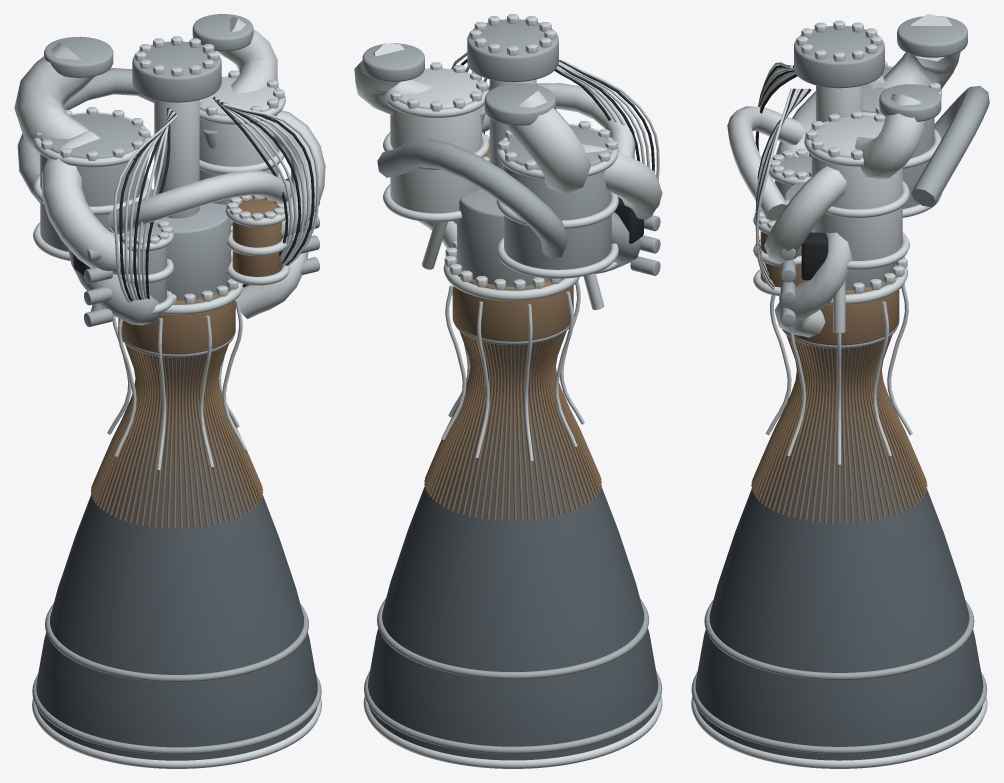
Rendered from Raptor2_Engine.fbx.
3 views of the same model, side by side, from view 1: azimuth 30°, elevation 25°; view 2: azimuth 150°, elevation 25°; view 3: azimuth 270°, elevation 25° (orthographic). The views are drawn at different scales.
Visible parts, largest first — view 1: Geometry_NozzleAlloy, Geometry_PipeSteel, Geometry_BrushedSteel, Geometry_HeatTint, Geometry_Gaskets; view 2: Geometry_NozzleAlloy, Geometry_PipeSteel, Geometry_BrushedSteel, Geometry_HeatTint, Geometry_Gaskets; view 3: Geometry_NozzleAlloy, Geometry_PipeSteel, Geometry_BrushedSteel, Geometry_HeatTint, Geometry_Gaskets.
Boxes of the visible parts, x1=… form: Geometry_NozzleAlloy: x1=36, y1=353, x2=317, y2=760; Geometry_PipeSteel: x1=14, y1=16, x2=325, y2=768; Geometry_BrushedSteel: x1=17, y1=14, x2=321, y2=754; Geometry_HeatTint: x1=91, y1=198, x2=282, y2=528; Geometry_Gaskets: x1=73, y1=96, x2=314, y2=301; Geometry_NozzleAlloy: x1=368, y1=341, x2=658, y2=760; Geometry_PipeSteel: x1=354, y1=14, x2=662, y2=768; Geometry_BrushedSteel: x1=362, y1=19, x2=662, y2=753; Geometry_HeatTint: x1=424, y1=141, x2=601, y2=521; Geometry_Gaskets: x1=460, y1=59, x2=654, y2=243; Geometry_NozzleAlloy: x1=695, y1=344, x2=983, y2=760; Geometry_PipeSteel: x1=691, y1=14, x2=987, y2=768; Geometry_BrushedSteel: x1=691, y1=16, x2=989, y2=754; Geometry_HeatTint: x1=751, y1=219, x2=927, y2=523; Geometry_Gaskets: x1=755, y1=65, x2=828, y2=286.
Bounding box in the file's own units: 1.37 × 3.33 × 1.34.
